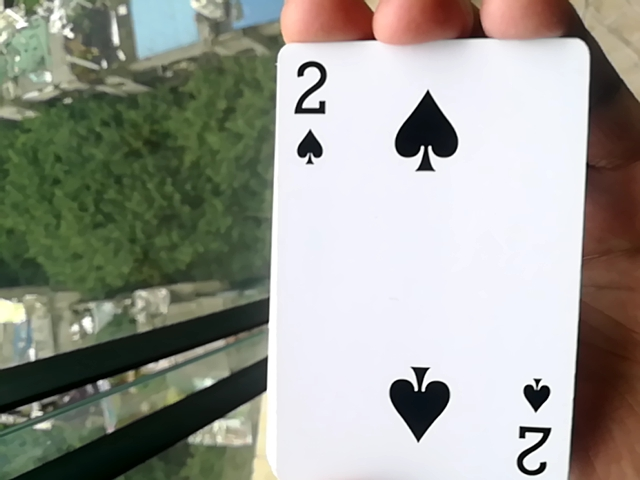ht 2: (253, 44, 592, 478)
